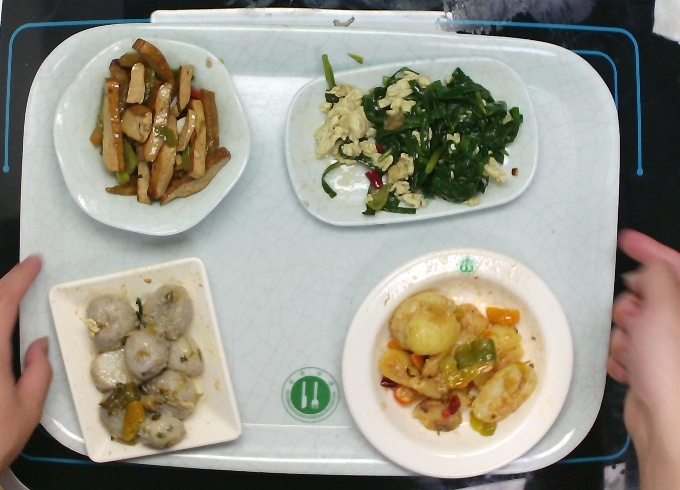WCQzf-Bai_Se_Si_Fang_Die: (43, 257, 246, 465)
WCQzf-Hua_Duo_Wan: (52, 33, 253, 242)
WCQzf-Kuan_Bian_Yuan_Die: (336, 247, 578, 480)
WCQzf-Tuo_Yuan_Pan: (279, 55, 540, 228)
